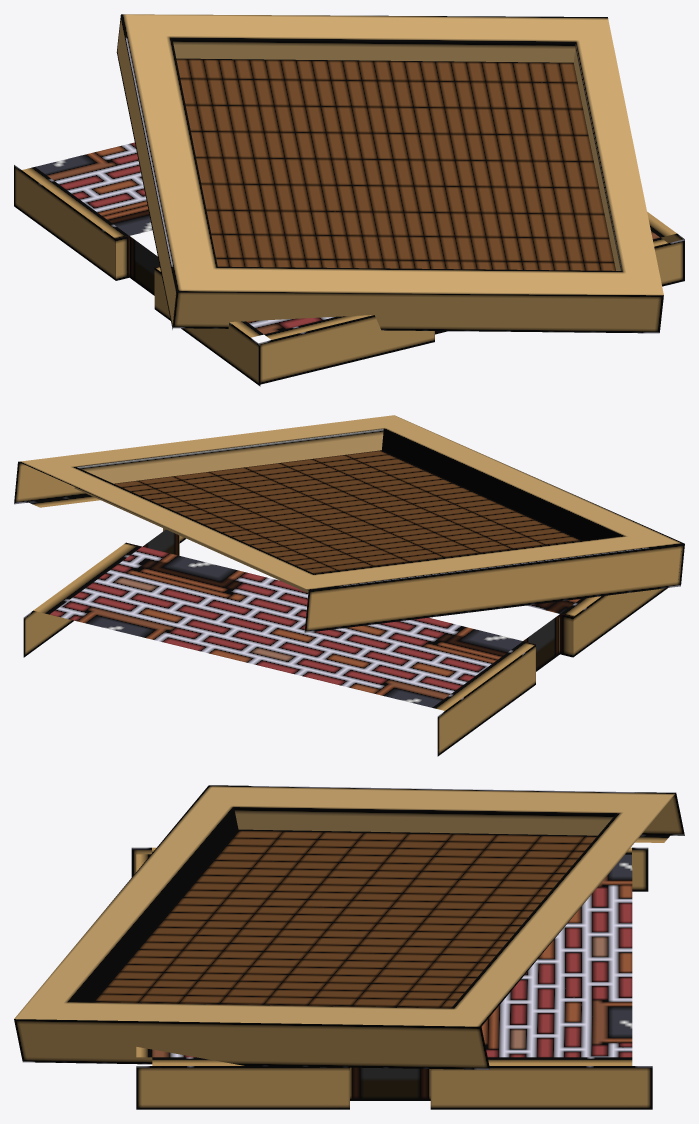
The model's file is SmallBuildingDestroyed.fbx.
The picture shows the model from 3 angles, top to bottom: view 1: azimuth 30°, elevation 25°; view 2: azimuth 150°, elevation 25°; view 3: azimuth 270°, elevation 25°; orthographic projection. The views are drawn at different scales.
Visible parts, largest first — view 1: Cube; view 2: Cube; view 3: Cube.
Part boxes in pixels (box(x1,y1,x2,y2)): Cube: box(14, 14, 684, 386); Cube: box(14, 415, 684, 756); Cube: box(14, 785, 684, 1109).
Size of the model in its own units: 263 by 68.48 by 260.
